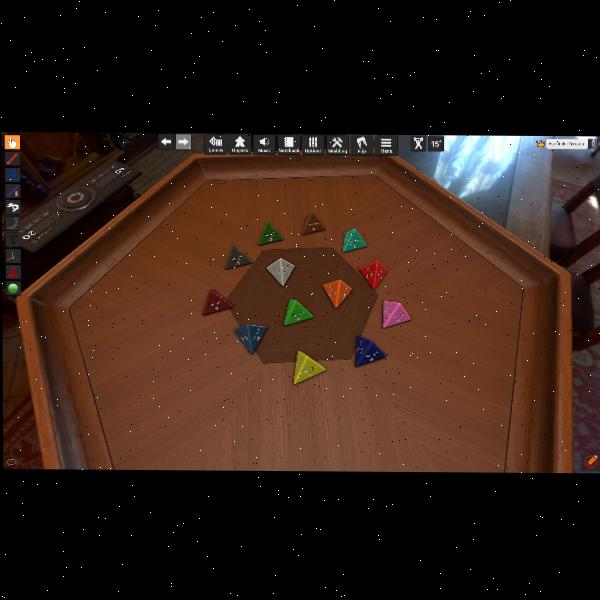d4: (293, 350, 325, 384), (233, 322, 266, 353), (356, 335, 387, 367), (266, 257, 294, 287), (322, 279, 350, 308), (358, 259, 386, 288), (202, 288, 231, 315), (283, 299, 311, 326), (384, 300, 410, 328), (225, 245, 253, 270), (258, 220, 283, 244), (342, 227, 365, 252), (301, 210, 324, 234)
